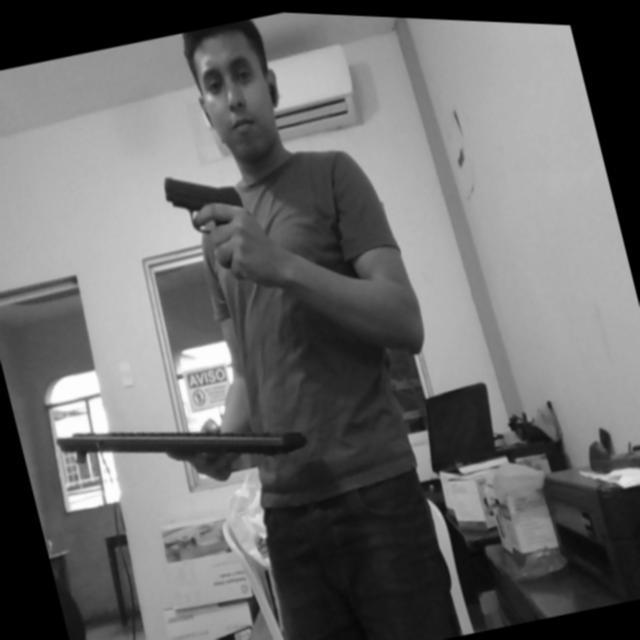weapon: (156, 154, 252, 242)
